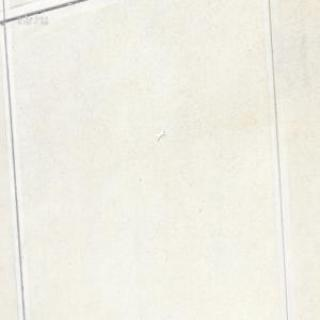Wrenchtrack_idkeyframe: (155, 131, 164, 142)
